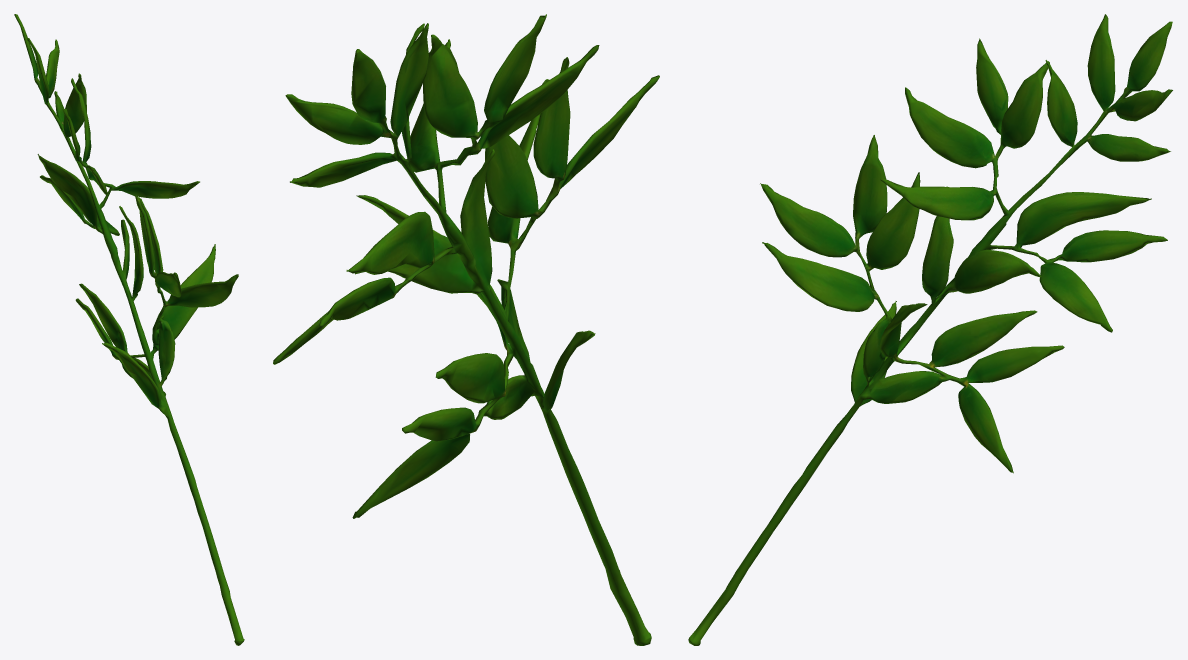
Rendered from branch.glb.
The picture shows the model from 3 angles, left to right: view 1: azimuth 30°, elevation 25°; view 2: azimuth 150°, elevation 25°; view 3: azimuth 270°, elevation 25°; orthographic projection. The views are drawn at different scales.
Parts seen in each view (by area): view 1: tripo_node_febc96b1-4777-4177-8127-810d8c59ee72; view 2: tripo_node_febc96b1-4777-4177-8127-810d8c59ee72; view 3: tripo_node_febc96b1-4777-4177-8127-810d8c59ee72.
Part boxes in pixels (x1,y1,x2,y2): tripo_node_febc96b1-4777-4177-8127-810d8c59ee72: (14,14,244,645); tripo_node_febc96b1-4777-4177-8127-810d8c59ee72: (273,14,659,645); tripo_node_febc96b1-4777-4177-8127-810d8c59ee72: (688,14,1172,645).
Bounding box in the file's own units: 0.2792 × 0.9996 × 0.7244.
1 material, 1 textured.
